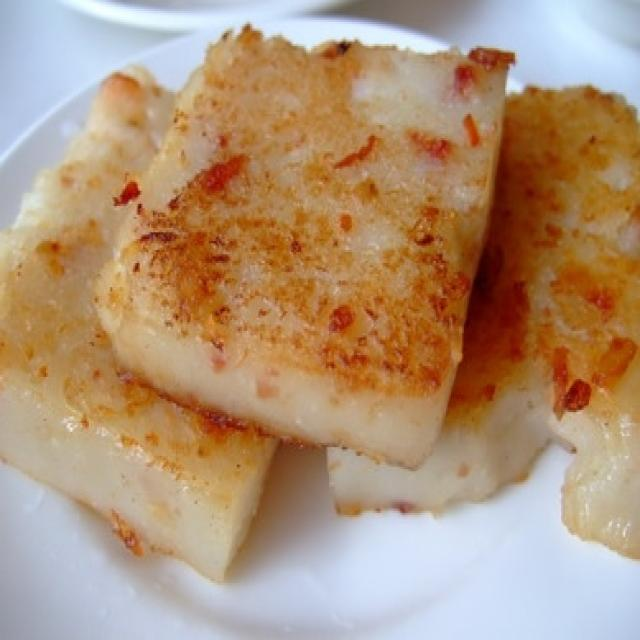蛋糕甜品: (28, 20, 632, 594)
